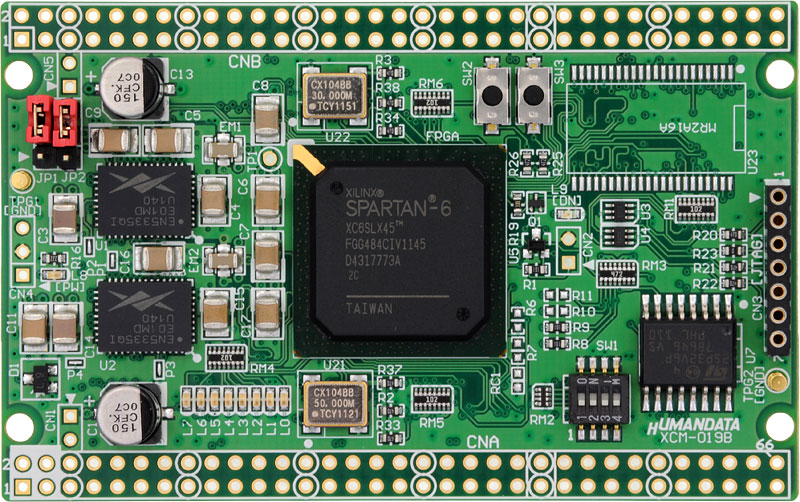button SW2: (473, 55, 512, 134)
button SW3: (514, 55, 553, 133)
capacitor C11: (19, 303, 50, 354)
capacitor C14: (51, 303, 83, 352)
capacitor C15: (200, 289, 231, 340)
capacitor C16: (134, 243, 186, 272)
capacitor C17: (253, 290, 284, 339)
capacitor C3: (49, 194, 81, 244)
capacitor C4: (197, 174, 228, 224)
capacitor C5: (146, 127, 194, 158)
capacitor C6: (252, 175, 282, 226)
capacitor C7: (252, 232, 283, 281)
capacitor C8: (251, 94, 284, 145)
capacitor C9: (89, 127, 142, 155)
clock U21: (298, 371, 372, 437)
clock U22: (297, 63, 371, 129)
component text" "150 CFK. 0C7: (109, 68, 144, 105)
component text" "150 CFK.0C7: (107, 399, 139, 435)
component text" "25P32V6P 78646 V5 PHL 110: (646, 329, 730, 366)
component text" "CX104BB 30. 000M TCY1151: (310, 77, 358, 113)
component text" "CX104BB 50. 000M TCY1121: (312, 387, 359, 420)
component text" "EN5335QI E01MD U140: (107, 193, 178, 229), (106, 309, 177, 345)
component text" "L9: (34, 370, 46, 391)
component text" "XILINX SPARTAN-6 XC6SLX45TM FGG484CIV1145 D4317773A 2C TAIWAN: (344, 183, 453, 319)
component text" 1: (575, 413, 587, 421)
component text" 102: (425, 97, 439, 108), (689, 204, 703, 213), (425, 394, 439, 403), (220, 353, 233, 362)
component text" 2: (588, 414, 599, 422)
component text" 3: (599, 413, 611, 422)
component text" 4: (588, 376, 599, 386), (611, 414, 624, 422)
component text" 472: (610, 269, 623, 278)
component text" I: (602, 378, 612, 384)
component text" M: (612, 377, 621, 386)
component text" O: (576, 376, 588, 385)
connector CN1: (59, 406, 81, 448)
connector CN2: (557, 227, 581, 274)
connector CN3: (765, 183, 789, 353)
connector CN4: (11, 217, 36, 286)
connector CN5: (58, 53, 79, 95)
connector CNA: (11, 451, 788, 499)
connector CNB: (8, 5, 787, 50)
connector JP1: (31, 142, 54, 168)
connector JP2: (54, 146, 81, 170)
diode D1: (21, 359, 60, 400)
electrolytic capacitor" C1: (100, 382, 168, 446)
electrolytic capacitor" C13: (95, 52, 175, 122)
emi filter" EM1: (203, 139, 245, 162)
emi filter" EM2: (205, 246, 247, 272)
ic U1: (93, 160, 196, 239)
ic U2: (92, 275, 198, 356)
ic U3: (601, 199, 638, 221)
ic U4: (599, 226, 638, 250)
ic U5: (291, 144, 505, 358)
ic U7: (636, 294, 737, 411)
inductor L9: (526, 192, 546, 214)
jumper JP1: (25, 94, 54, 146)
jumper JP2: (52, 95, 80, 149)
led L0: (277, 387, 291, 416)
led L1: (265, 385, 277, 416)
led L2: (252, 387, 263, 415)
led L3: (238, 388, 250, 415)
led L4: (224, 386, 235, 416)
led L5: (209, 387, 220, 415)
led L6: (196, 387, 206, 415)
led L7: (181, 385, 191, 413)
led L8: (38, 269, 68, 279)
led L9: (556, 208, 584, 221)
pads R10: (542, 303, 573, 318)
pads R11: (541, 286, 571, 302)
pads R6: (509, 305, 526, 335)
pads R7: (511, 337, 525, 364)
pads RC1: (511, 367, 525, 395)
pads U23: (570, 64, 747, 191)
resistor R1: (522, 263, 554, 277)
resistor R16: (40, 249, 67, 264)
resistor R19: (512, 190, 522, 219)
resistor R2: (377, 404, 404, 417)
resistor R20: (721, 228, 747, 241)
resistor R21: (719, 262, 748, 274)
resistor R22: (719, 277, 748, 291)
resistor R23: (721, 245, 748, 258)
resistor R25: (537, 150, 550, 177)
resistor R26: (521, 150, 533, 177)
resistor R3: (377, 67, 404, 79)
resistor R33: (377, 433, 405, 445)
resistor R34: (377, 126, 405, 138)
resistor R37: (377, 377, 404, 389)
resistor R38: (377, 98, 404, 111)
resistor R8: (543, 338, 570, 350)
resistor R9: (542, 322, 572, 334)
resistor network" RM1: (676, 195, 718, 223)
resistor network" RM2: (532, 384, 553, 409)
resistor network" RM3: (596, 262, 639, 287)
resistor network" RM4: (205, 345, 248, 370)
resistor network" RM5: (411, 386, 454, 412)
resistor network" RM6: (412, 90, 453, 117)
switch SW1: (568, 355, 629, 442)
test point" P1: (106, 250, 117, 271)
test point" P2: (85, 238, 94, 256)
test point" P3: (153, 359, 164, 379)
test point" P4: (67, 358, 87, 367)
test point" TP1: (258, 146, 282, 172)
test point" TPG1: (8, 171, 37, 193)
test point" TPG2: (767, 369, 788, 394)
text "HUMANDATA XCM-019B: (646, 414, 742, 445)
text "[DN]: (553, 195, 582, 205)
text "[GND]: (2, 205, 43, 217), (755, 366, 765, 405)
text "[JTAG]: (750, 233, 764, 285)
text "[PW]: (56, 281, 84, 293)
text +: (83, 69, 97, 84), (85, 394, 96, 407)
text 1: (2, 480, 16, 502), (1, 32, 13, 52), (770, 167, 788, 179)
text 2: (1, 457, 15, 474), (1, 7, 12, 26)
text 66: (754, 437, 776, 449)
text 7: (771, 353, 788, 364)
text C1: (85, 421, 99, 437)
text C11: (8, 310, 18, 336)
text C13: (167, 67, 198, 83)
text C14: (85, 335, 95, 360)
text C15: (233, 286, 247, 312)
text C16: (119, 250, 131, 275)
text C17: (240, 314, 252, 340)
text C3: (37, 225, 49, 246)
text C4: (231, 202, 241, 222)
text C5: (183, 106, 203, 122)
text C6: (237, 176, 250, 195)
text C7: (238, 222, 250, 242)
text C8: (252, 77, 271, 92)
text C9: (82, 102, 103, 120)
text CN1: (42, 405, 58, 434)
text CN2: (583, 229, 594, 258)
text CN3: (751, 294, 762, 322)
text CN4: (8, 289, 36, 298)
text CN5: (42, 52, 57, 94)
text CNA: (465, 432, 501, 449)
text CNB: (227, 52, 262, 71)
text D1: (10, 362, 19, 381)
text EM1: (219, 119, 243, 134)
text EM2: (188, 246, 200, 275)
text FPGA: (424, 129, 463, 143)
text JP1: (36, 170, 59, 186)
text JP2: (58, 169, 86, 187)
text L0: (279, 417, 292, 438)
text L1: (265, 419, 277, 437)
text L2: (250, 417, 264, 437)
text L3: (237, 417, 249, 437)
text L4: (224, 418, 235, 438)
text L5: (210, 417, 222, 440)
text L6: (196, 417, 210, 438)
text L7: (180, 418, 194, 437)
text L8: (70, 271, 86, 280)
text L9: (550, 182, 568, 195)
text MR2A16A: (654, 119, 721, 135)
text P1: (95, 259, 106, 276)
text P2: (87, 259, 95, 277)
text P3: (165, 361, 177, 379)
text P4: (67, 369, 87, 384)
text Q1: (526, 216, 545, 229)
text R1: (522, 278, 538, 291)
text R10: (570, 307, 596, 319)
text R11: (571, 289, 595, 303)
text R16: (69, 246, 83, 269)
text R19: (508, 220, 519, 247)
text R2: (378, 390, 396, 404)
text R20: (691, 228, 718, 242)
text R21: (692, 263, 717, 274)
text R22: (691, 275, 719, 291)
text R23: (689, 246, 719, 260)
text R25: (552, 150, 564, 177)
text R26: (508, 151, 519, 178)
text R3: (375, 54, 394, 65)
text R33: (376, 419, 400, 432)
text R34: (374, 110, 400, 123)
text R37: (376, 363, 403, 375)
text R38: (374, 82, 401, 95)
text R6: (526, 297, 537, 317)
text R7: (526, 344, 538, 363)
text R8: (573, 338, 589, 350)
text R9: (572, 322, 593, 334)
text RC1: (488, 371, 502, 396)
text RM1: (663, 198, 674, 221)
text RM2: (528, 413, 556, 427)
text RM3: (640, 259, 669, 273)
text RM4: (249, 362, 277, 375)
text RM5: (416, 415, 447, 431)
text RM6: (418, 76, 446, 89)
text SW1: (595, 339, 619, 352)
text SW2: (461, 59, 474, 89)
text SW3: (553, 58, 564, 85)
text TP1: (247, 150, 256, 173)
text TPG1: (6, 195, 40, 207)
text TPG2: (741, 368, 753, 405)
text TRIANGLE: (747, 188, 763, 206)
text U1: (94, 239, 109, 252)
text U2: (99, 358, 119, 373)
text U21: (320, 359, 349, 371)
text U22: (322, 132, 353, 144)
text U23: (747, 146, 760, 177)
text U3: (640, 203, 651, 221)
text U4: (641, 226, 653, 246)
text U5: (508, 247, 520, 265)
text U7: (743, 347, 757, 365)
transistor Q1: (520, 229, 552, 260)
